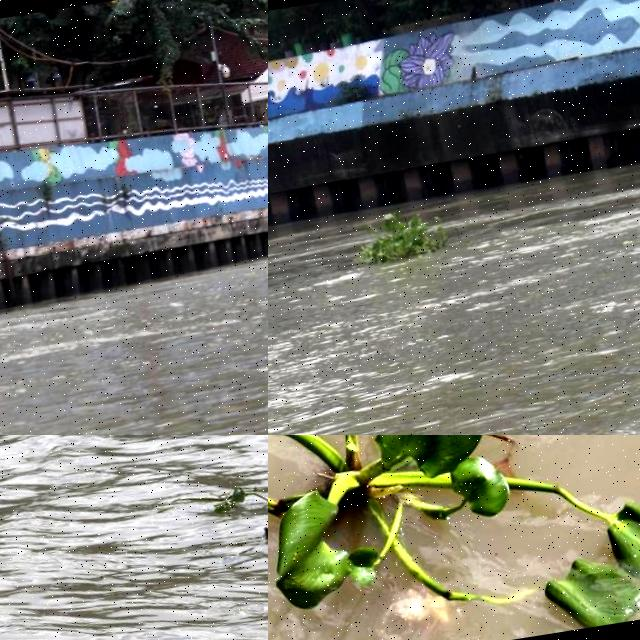water-hyacinth: (269, 436, 640, 640), (348, 206, 453, 271), (185, 469, 269, 524)
